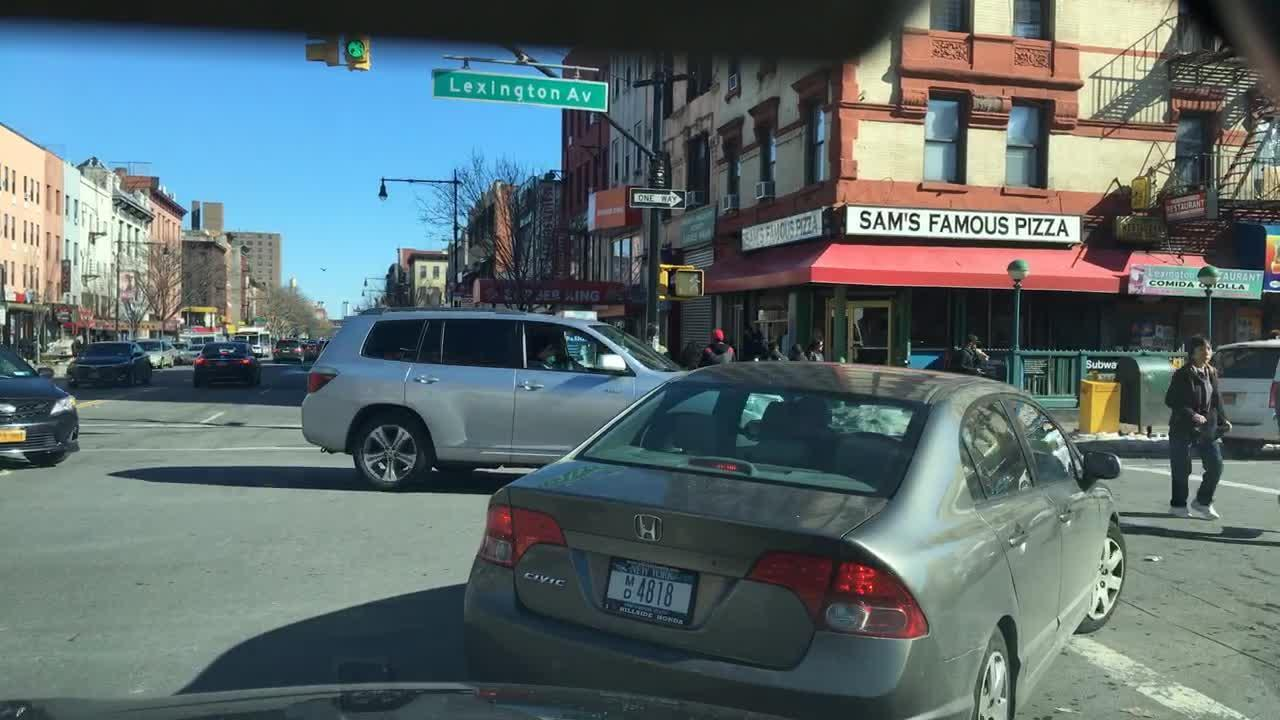Honda: (621, 498, 669, 552)
